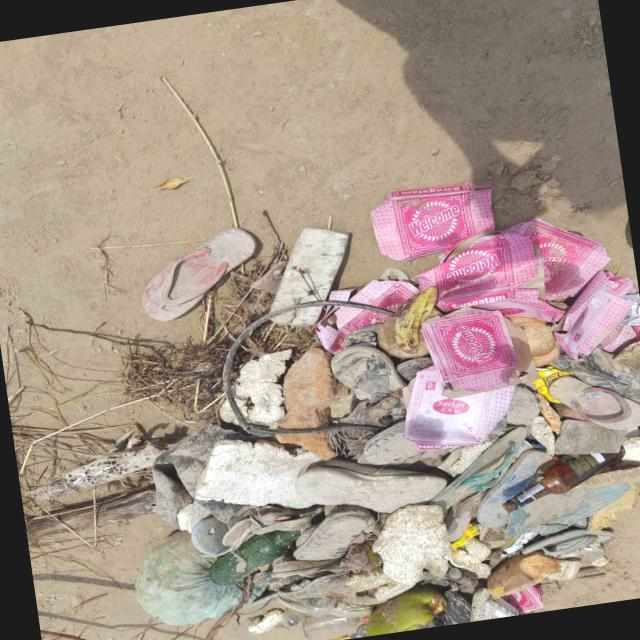chai_thuy_tinh: (504, 453, 619, 513), (210, 531, 300, 587), (303, 615, 362, 640)
dep: (143, 227, 257, 321), (431, 427, 527, 510), (296, 467, 447, 513), (477, 449, 553, 528), (550, 376, 640, 430), (294, 506, 375, 561), (331, 345, 406, 401), (358, 422, 421, 465), (523, 529, 615, 557), (191, 517, 228, 556)
giay: (417, 218, 611, 311), (423, 312, 538, 398), (371, 181, 496, 260), (405, 366, 515, 450), (556, 271, 634, 360), (351, 280, 421, 312), (336, 307, 389, 337), (507, 587, 545, 614)
ly_hop_giay: (534, 366, 571, 404)
rac_huu_co: (12, 425, 163, 501), (25, 487, 156, 555), (367, 587, 447, 637), (488, 552, 561, 600), (395, 287, 438, 354), (201, 586, 248, 640), (6, 344, 24, 404), (40, 630, 90, 640)
thuy_tinh: (304, 597, 339, 617), (281, 609, 306, 630)
vai_vun: (136, 532, 243, 626)
